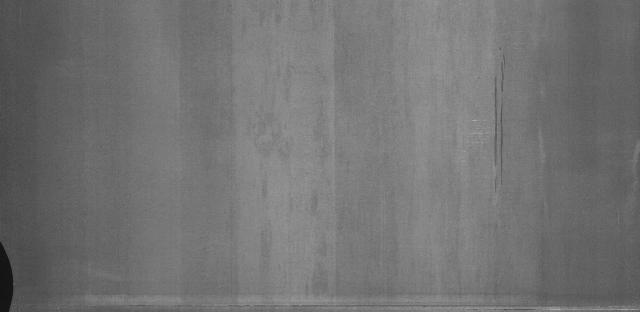welding_line: (11, 299, 640, 312)
